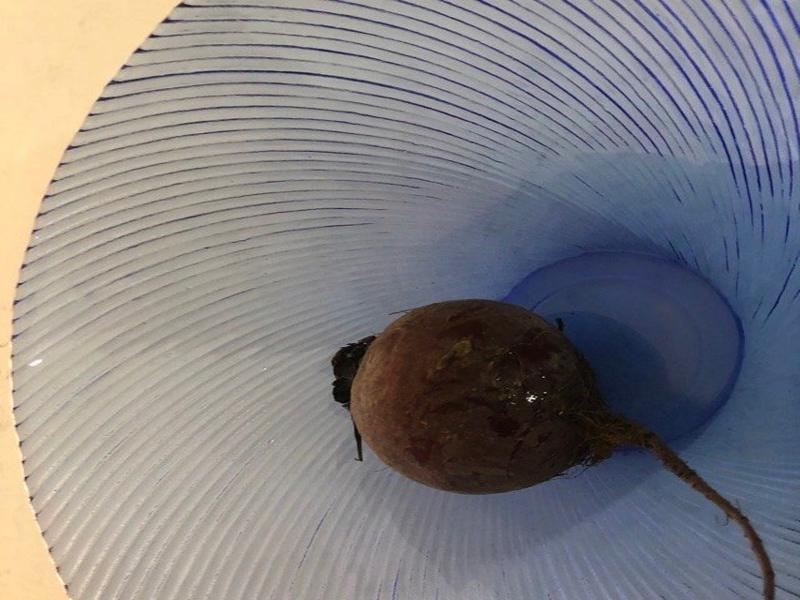Beet: (329, 299, 773, 600)
